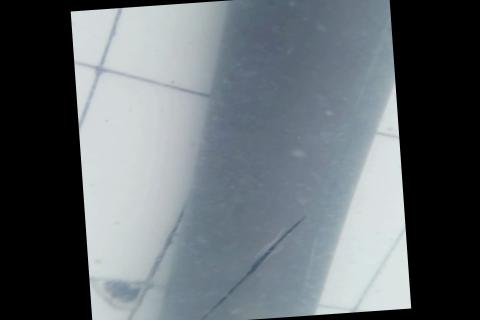keretakan: (192, 212, 314, 320)
